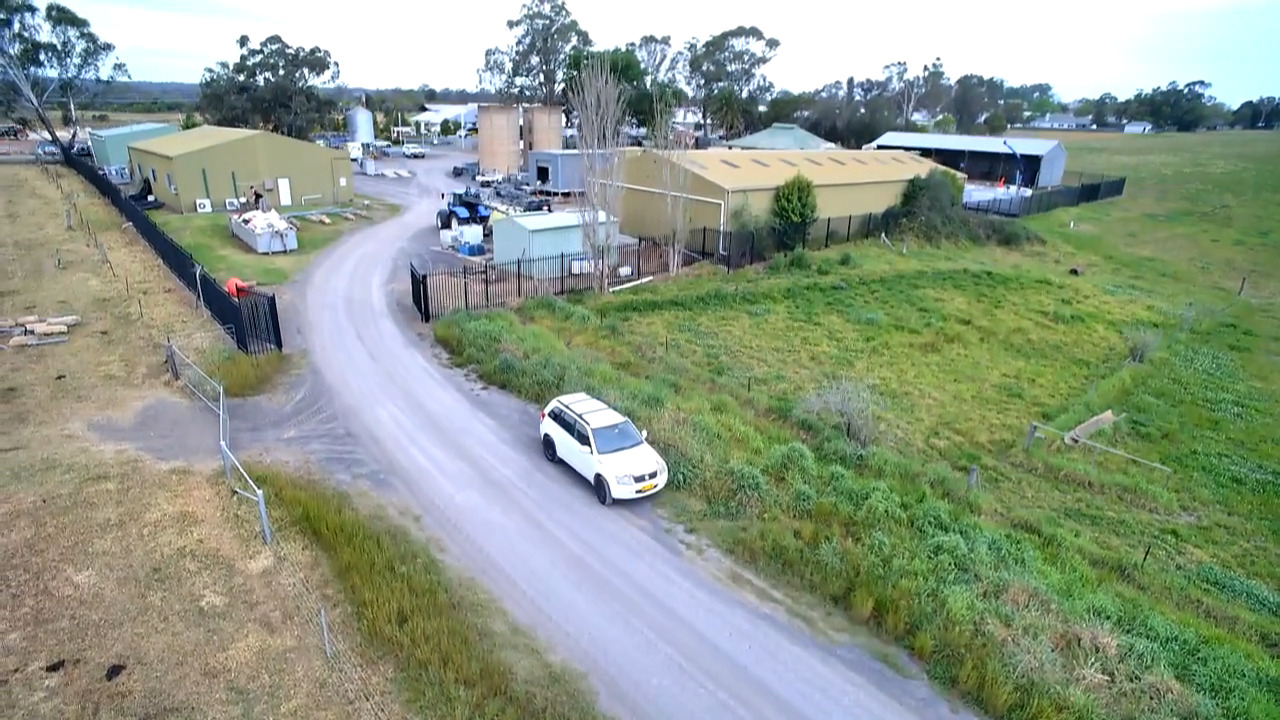Car: (539, 392, 668, 505), (402, 143, 426, 158)
